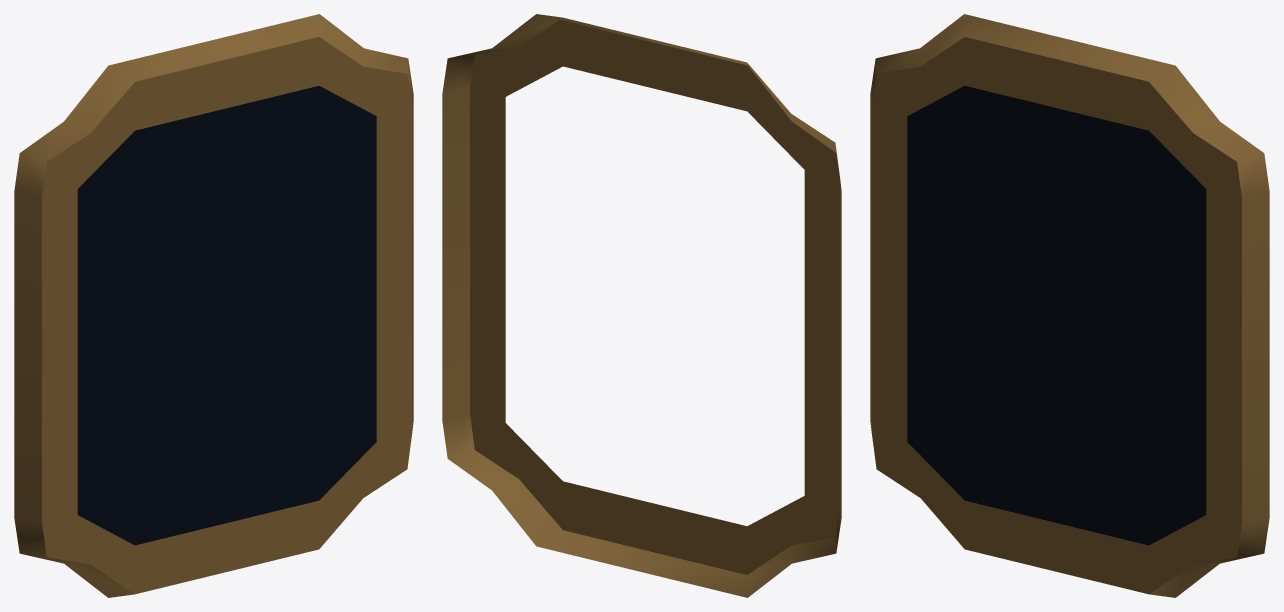
File: LAGS_Tablero.fbx
3 views of the same model, side by side, from view 1: azimuth 30°, elevation 25°; view 2: azimuth 150°, elevation 25°; view 3: azimuth 330°, elevation 25° (orthographic).
Visible parts, largest first — view 1: LAGS_Tablero; view 2: LAGS_Tablero; view 3: LAGS_Tablero.
Boxes of the visible parts, x1,y1,x2,y2 form: LAGS_Tablero: (14,14,413,597); LAGS_Tablero: (442,14,841,597); LAGS_Tablero: (870,14,1269,597).
Size of the model in its own units: 75.06 by 95.6 by 4.28.
